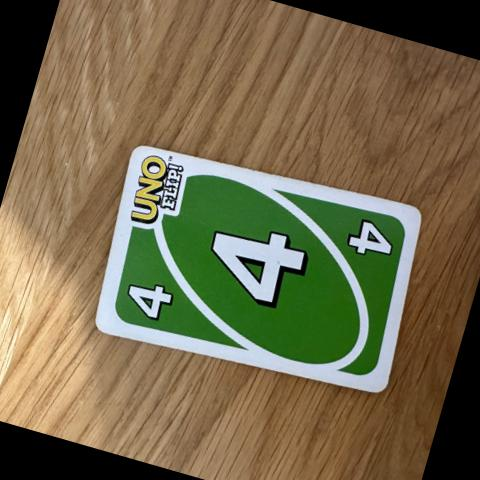lgreen-4: (103, 256, 192, 344)
